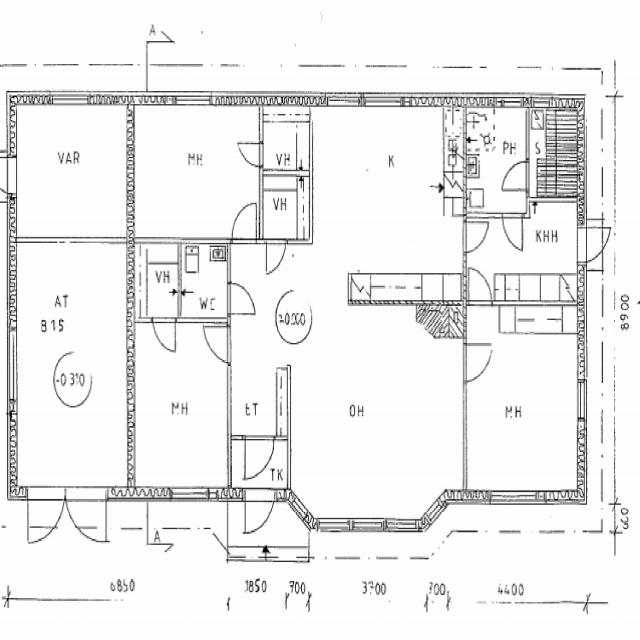door: (66, 488, 105, 558), (28, 488, 66, 558), (245, 488, 275, 544), (246, 436, 274, 481), (577, 228, 611, 262), (464, 346, 493, 380), (204, 326, 232, 361), (233, 203, 256, 243), (152, 318, 175, 357), (470, 268, 492, 306), (228, 284, 253, 314), (464, 222, 489, 252), (503, 212, 523, 246), (507, 162, 531, 190), (267, 237, 285, 270), (0, 157, 16, 192), (244, 144, 264, 166)
